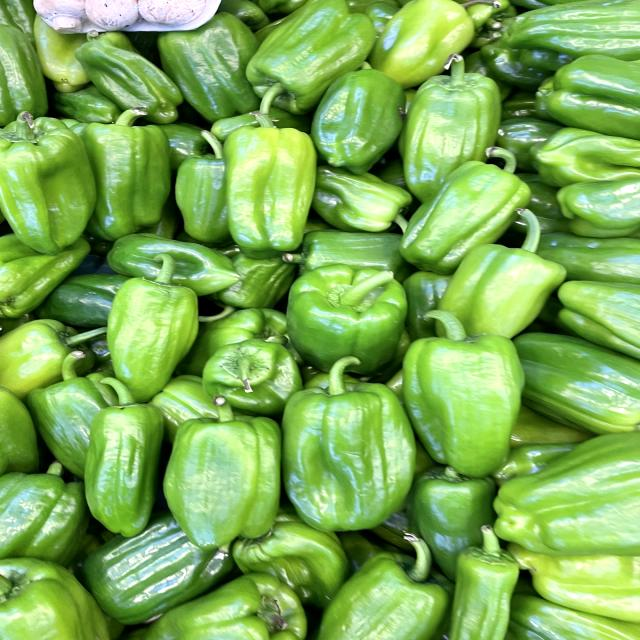bell pepper: (384, 302, 547, 480), (276, 351, 428, 539), (156, 387, 297, 553), (393, 140, 551, 274), (208, 103, 335, 257), (397, 43, 511, 200), (94, 247, 210, 401)
